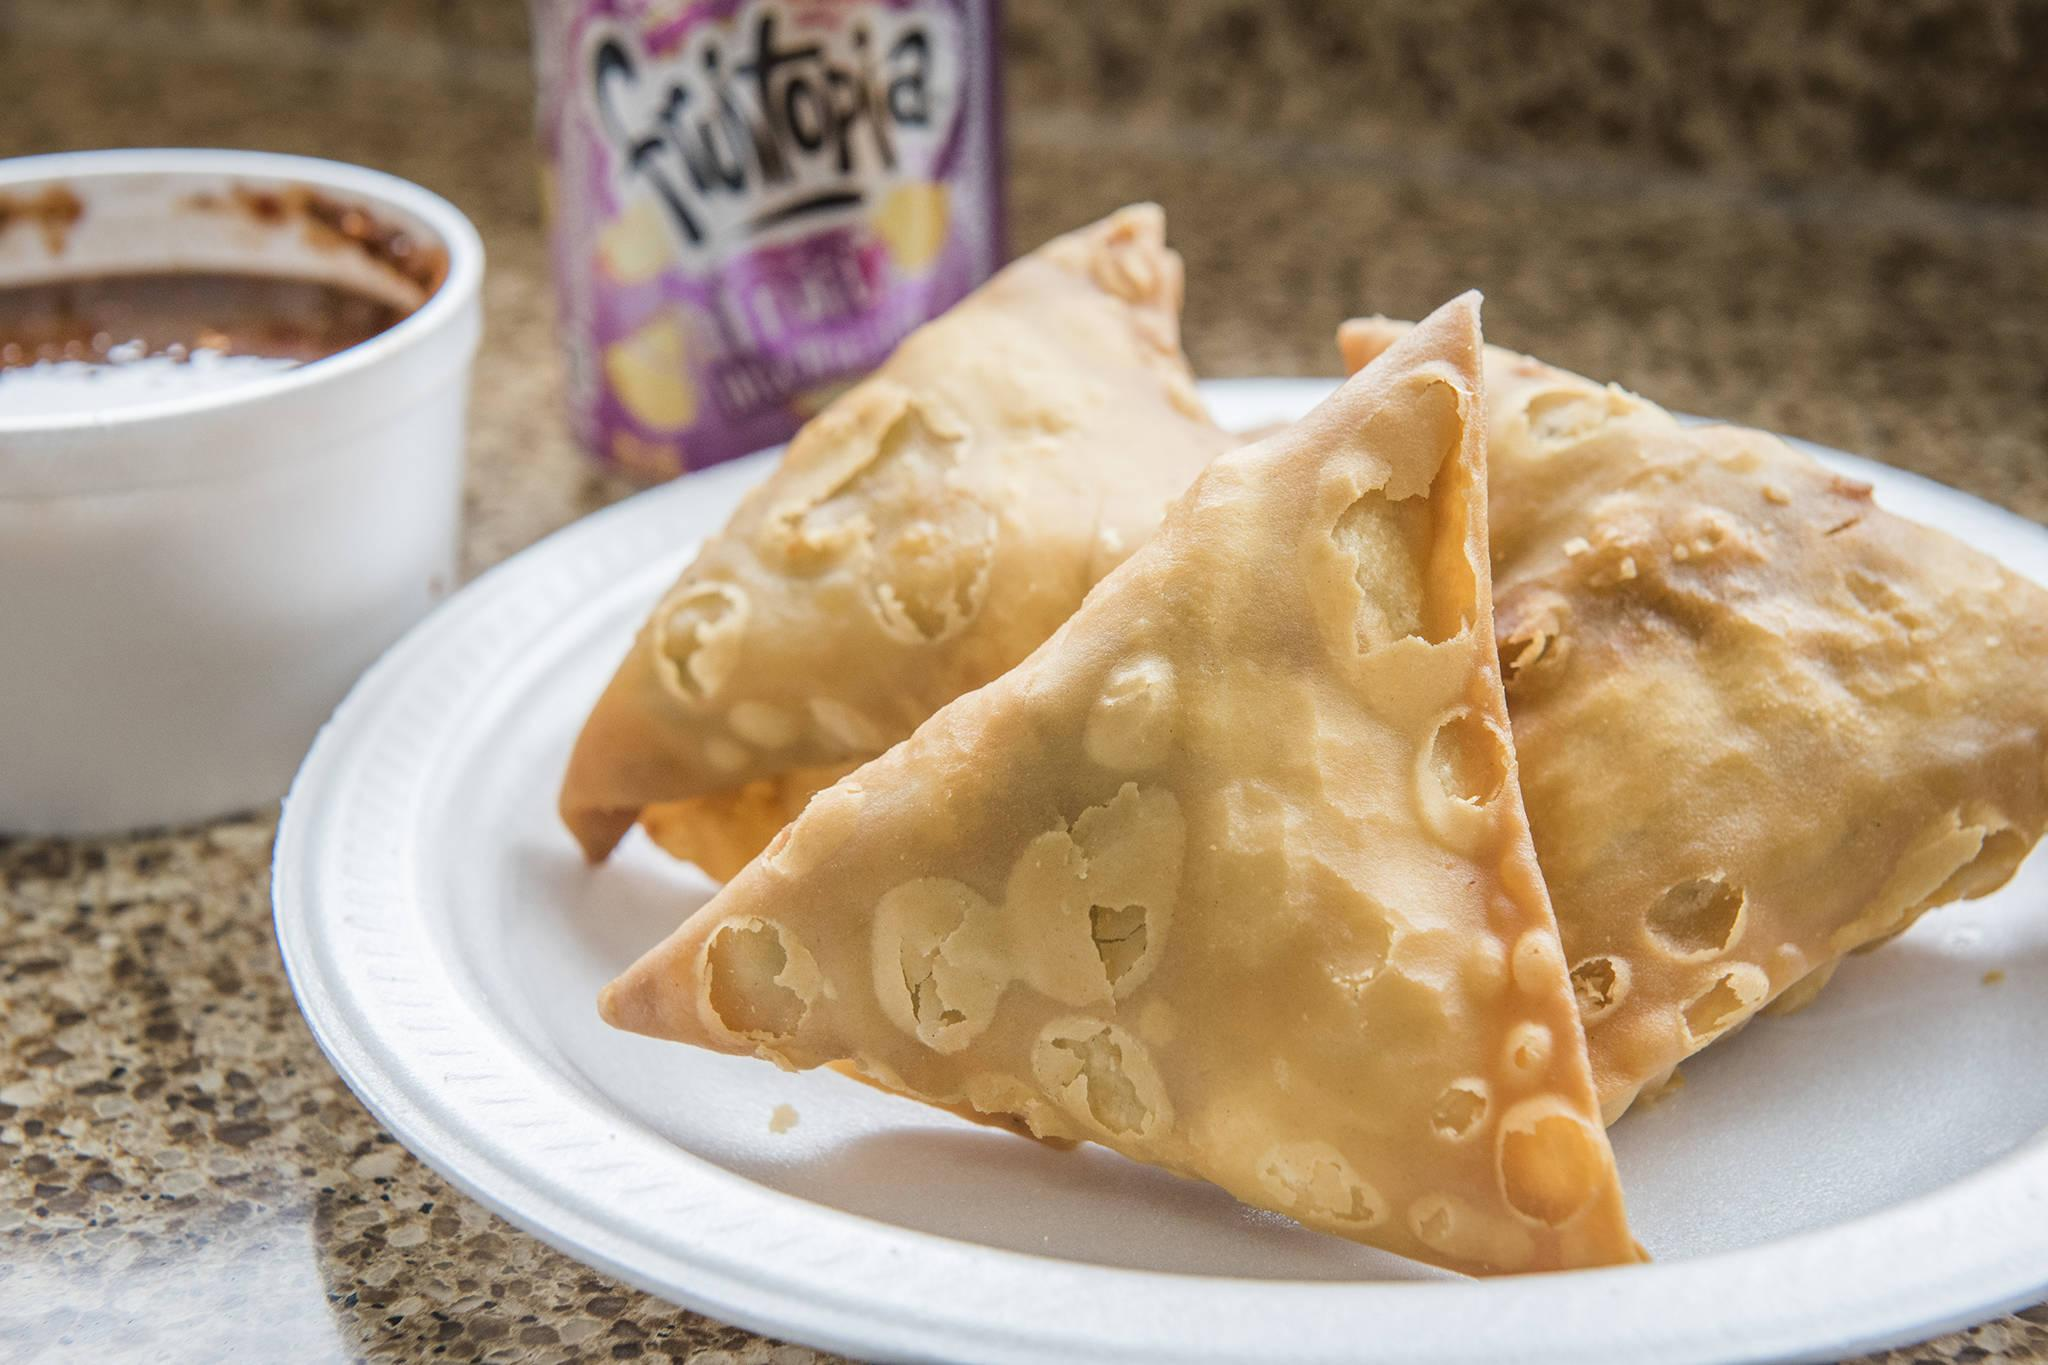samosa: (600, 296, 1640, 1277), (560, 209, 1232, 876), (1485, 347, 2048, 1120)
